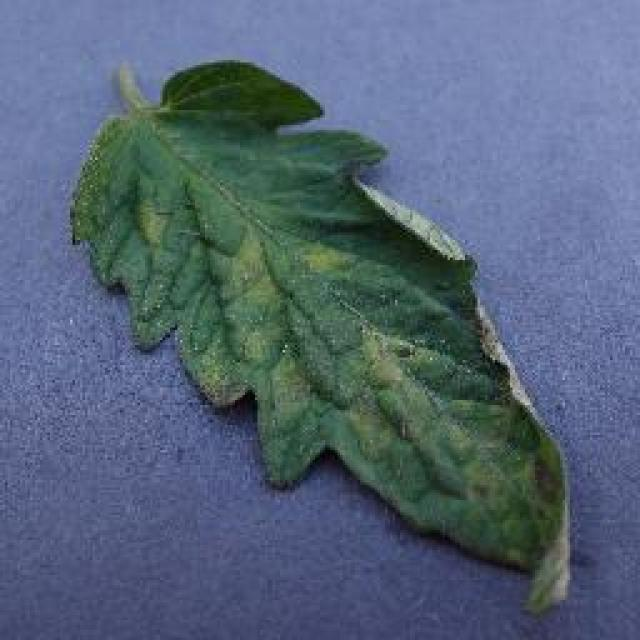leaf mold: (69, 63, 569, 613)
